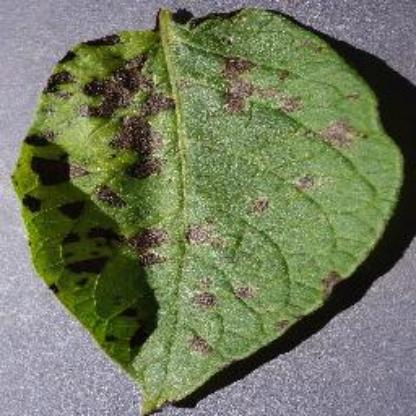Early-Blight: (15, 6, 408, 408)
